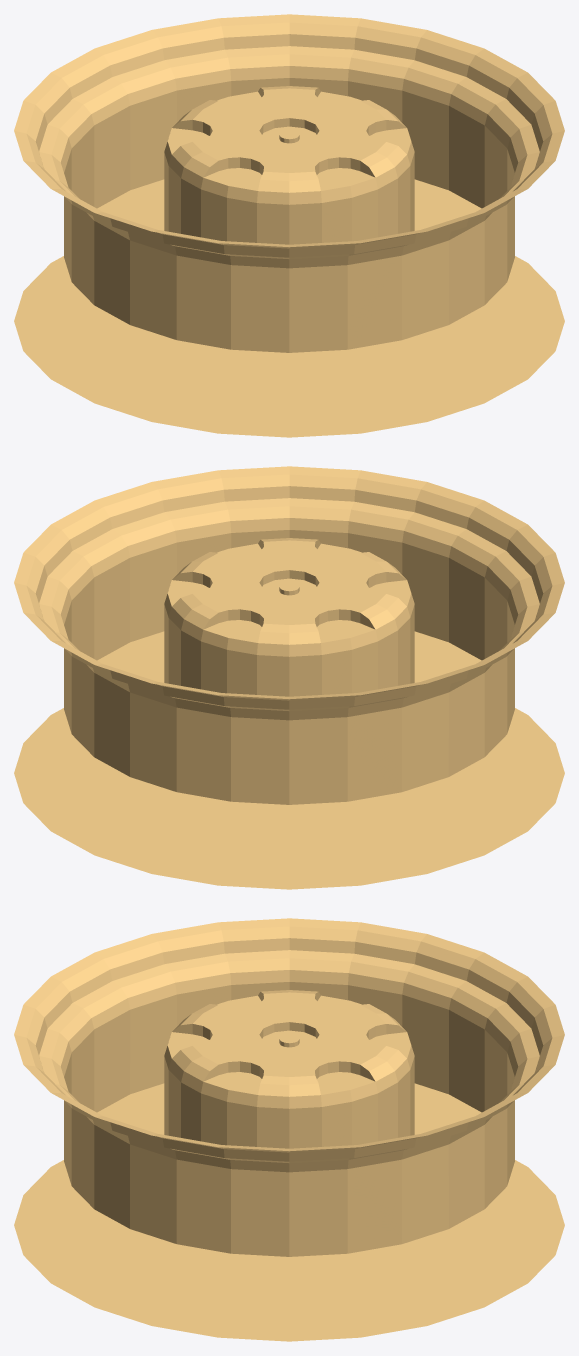
Rendered from anashe_Pioneer_p3dx_leftWheel_visible_vis_2.dae.
3 renders of one model, top to bottom at view 1: azimuth 30°, elevation 25°; view 2: azimuth 150°, elevation 25°; view 3: azimuth 270°, elevation 25°, orthographic.
Parts seen in each view (by area): view 1: Node_0x776b6db4dae0; view 2: Node_0x776b6db4dae0; view 3: Node_0x776b6db4dae0.
Boxes of the visible parts, box(x1,y1,x2,y2) form: Node_0x776b6db4dae0: box(14, 14, 564, 437); Node_0x776b6db4dae0: box(14, 466, 564, 889); Node_0x776b6db4dae0: box(14, 918, 564, 1341).
Size of the model in its own units: 0.1073 by 0.0409 by 0.1073.
